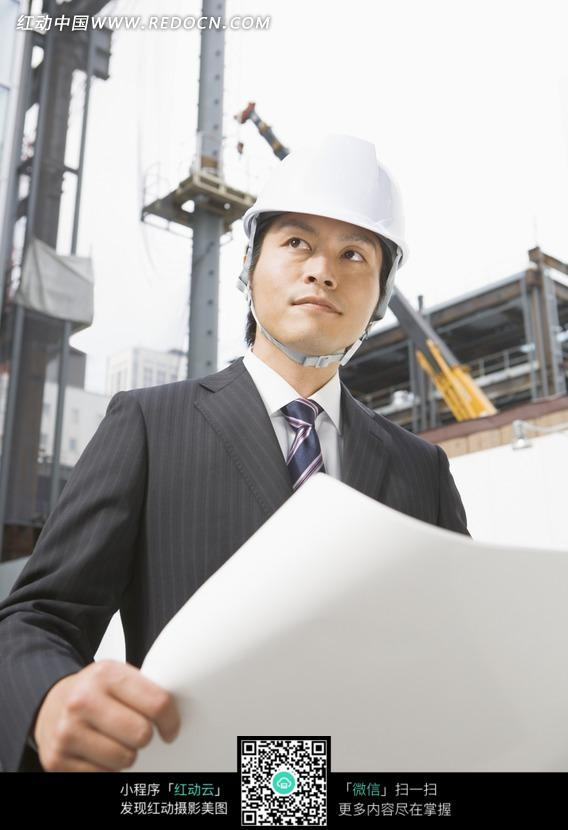helmet: (246, 141, 409, 275)
